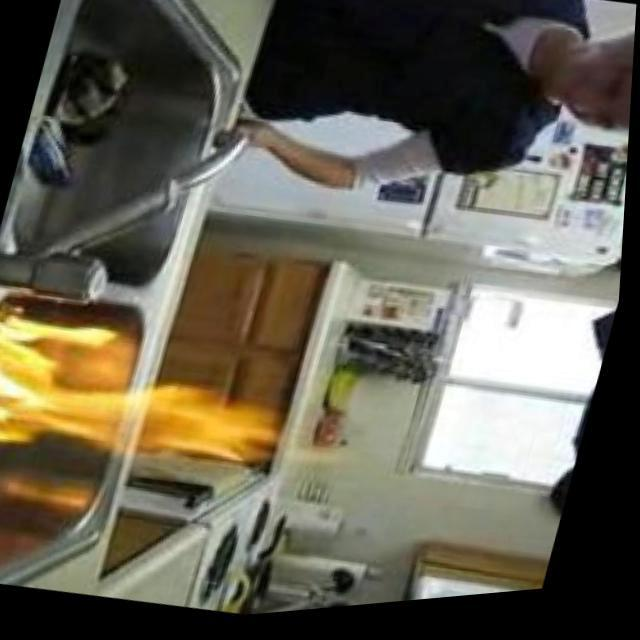fire: (0, 286, 316, 525)
